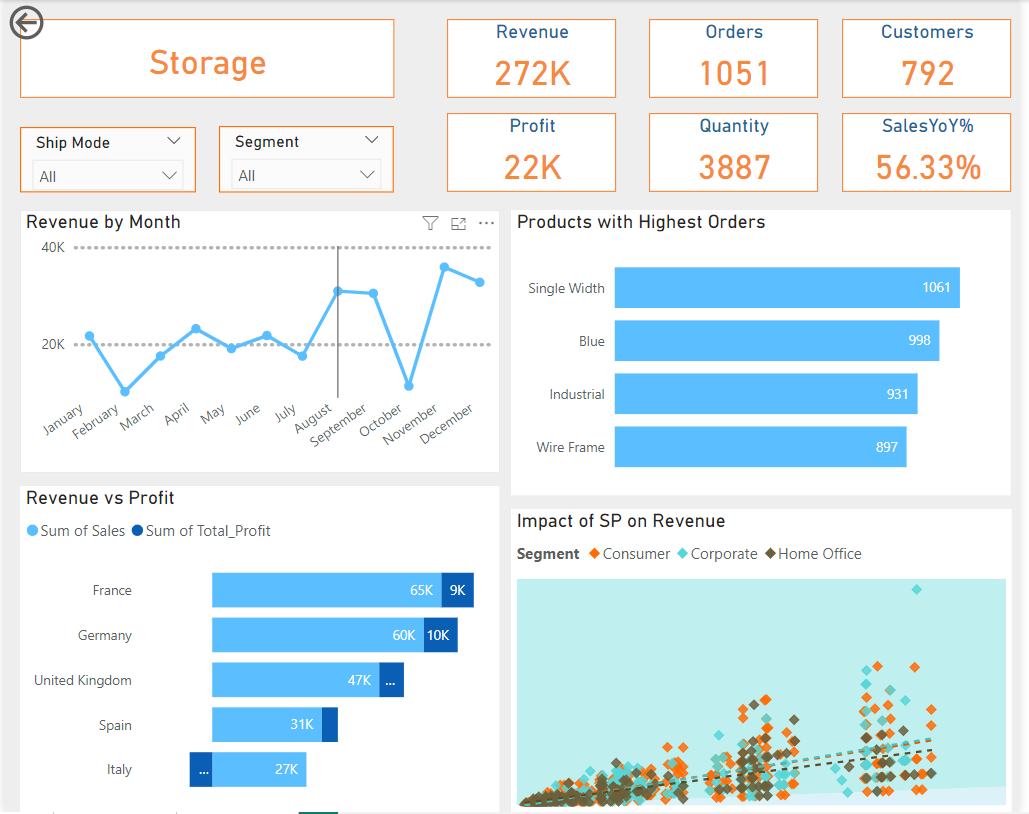

What the dashboard file says about the page in this screenshot:
{"tool":"powerbi","page":{"name":"Product details","canvas":[900,720],"ordinal":3},"visuals":[{"type":"card","title":"Product","fields":{"Values":["Min(OrderBreakdown.Sub-Category)"]},"box":[14.5,16.7,331.5,70.3],"z":0},{"type":"lineStackedColumnComboChart","title":"Revenue by Country","fields":{"Category":["ListOfOrders.Country"],"Y":["Sum(OrderBreakdown.Total_Profit)"]},"box":[14.5,430.9,425.3,289.1],"z":1000},{"type":"cardVisual","fields":{"Data":["OrderBreakdown.Total Sales"]},"box":[913.9,0,248.4,119.4],"z":2000},{"type":"actionButton","box":[0,0,100,40],"z":3000},{"type":"card","title":"Revenue","fields":{"Values":["OrderBreakdown.Total Sales"]},"box":[392.9,16.7,149.6,70.3],"z":4000},{"type":"card","title":"Profit","fields":{"Values":["OrderBreakdown.Total Profit"]},"box":[392.9,100.5,149.6,70.3],"z":5000},{"type":"card","title":"Customers","fields":{"Values":["ListOfOrders.Customers"]},"box":[743.4,16.7,149.6,70.3],"z":6000},{"type":"card","title":"Quantity","fields":{"Values":["OrderBreakdown.Quantity Sold"]},"box":[571.5,100.5,149.6,70.3],"z":7000},{"type":"card","title":"Orders","fields":{"Values":["ListOfOrders.Orders"]},"box":[571.5,16.7,149.6,70.3],"z":8000},{"type":"barChart","title":"Products with Highest Orders","fields":{"Y":["Sum(OrderBreakdown.Quantity)"],"Category":["OrderBreakdown.Product Sub Category"]},"box":[449.9,186.4,443.2,253.4],"z":9000},{"type":"lineChart","title":"Revenue by Month","fields":{"Y":["OrderBreakdown.Total Sales"],"Category":["ListOfOrders.Order Date.Variation.Date Hierarchy.Month"],"Series":["ListOfOrders.Segment"]},"box":[14.5,186.4,425.3,233.3],"z":10000},{"type":"slicer","fields":{"Values":["ListOfOrders.Ship Mode"]},"box":[14.5,112.7,156.3,58],"z":11000},{"type":"slicer","fields":{"Values":["ListOfOrders.Segment"]},"box":[190.9,111.6,155.2,59.2],"z":12000},{"type":"card","title":"SalesYoY%","fields":{"Values":["ListOfOrders.Sales YoY%"]},"box":[743.4,100.5,150,70],"z":13000},{"type":"scatterChart","title":"Orders Count by Product Name","fields":{"X":["ListOfOrders.Days to Ship Product"],"Series":["OrderBreakdown.Product Name"],"Size":["Sum(OrderBreakdown.Quantity)"],"Y":["ListOfOrders.Orders"]},"box":[449.9,451,444.3,269],"z":14000}]}

Visuals, with their boxes in screenshot pixels (x1, y1, x2, y2), scaled from the page's 900x720 canvas onto the 1029x814 screenshot:
"Product" card: l=17, t=19, r=396, b=98
"Revenue by Country" lineStackedColumnComboChart: l=17, t=487, r=503, b=813
actionButton: l=0, t=0, r=114, b=45
"Revenue" card: l=449, t=19, r=620, b=98
"Profit" card: l=449, t=114, r=620, b=193
"Customers" card: l=850, t=19, r=1021, b=98
"Quantity" card: l=653, t=114, r=824, b=193
"Orders" card: l=653, t=19, r=824, b=98
"Products with Highest Orders" barChart: l=514, t=211, r=1021, b=497
"Revenue by Month" lineChart: l=17, t=211, r=503, b=474
slicer - ListOfOrders.Ship Mode: l=17, t=127, r=195, b=193
slicer - ListOfOrders.Segment: l=218, t=126, r=396, b=193
"SalesYoY%" card: l=850, t=114, r=1021, b=193
"Orders Count by Product Name" scatterChart: l=514, t=510, r=1022, b=813
